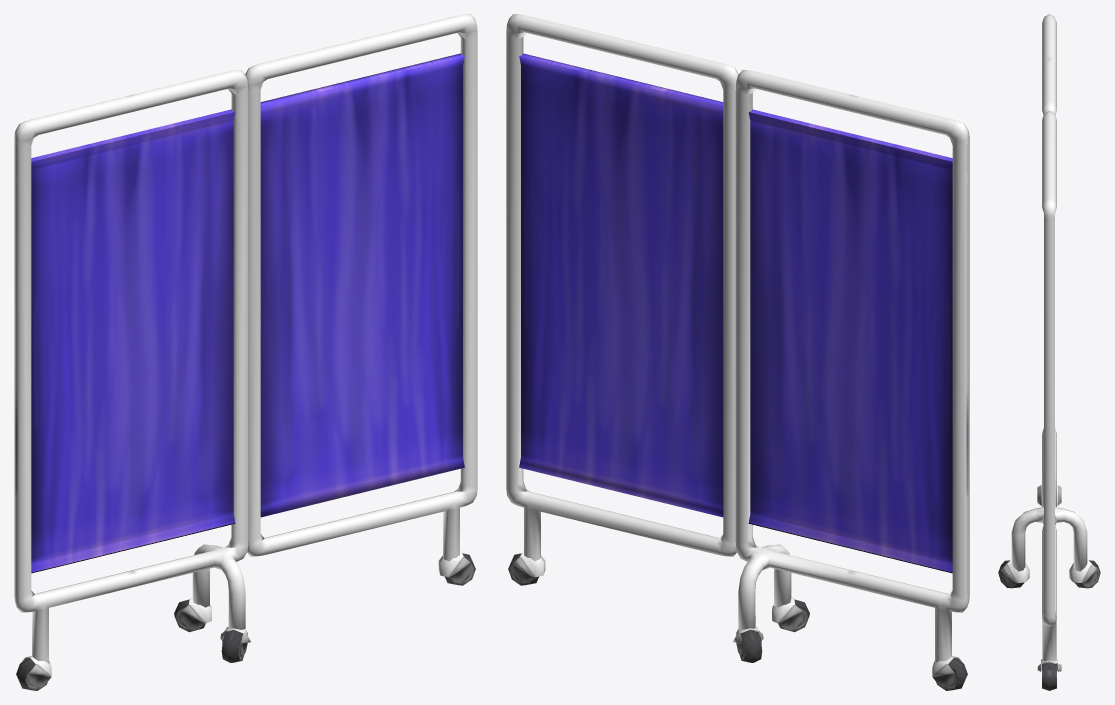
File: curtain_screen.glb
The picture shows the model from 3 angles, left to right: view 1: azimuth 30°, elevation 25°; view 2: azimuth 150°, elevation 25°; view 3: azimuth 270°, elevation 25°; orthographic projection. The views are drawn at different scales.
Parts seen in each view (by area): view 1: hospital/curtain_screen; view 2: hospital/curtain_screen; view 3: hospital/curtain_screen.
Part boxes in pixels (left/top/right/bottom): hospital/curtain_screen: left=14, top=14, right=477, bottom=690; hospital/curtain_screen: left=506, top=14, right=969, bottom=690; hospital/curtain_screen: left=998, top=14, right=1100, bottom=690.
Size of the model in its own units: 1.51 by 1.8 by 0.338.
1 material, 1 textured.
